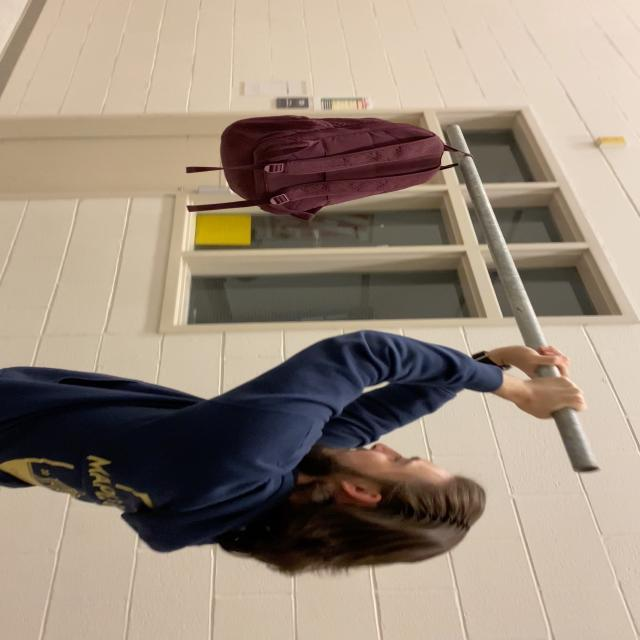Backpacks: (218, 114, 452, 217)
